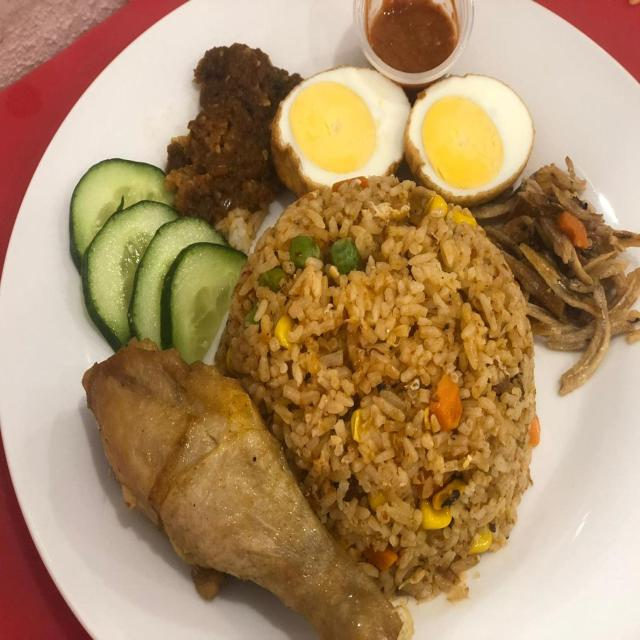Nasi Goreng: (227, 189, 539, 598)
